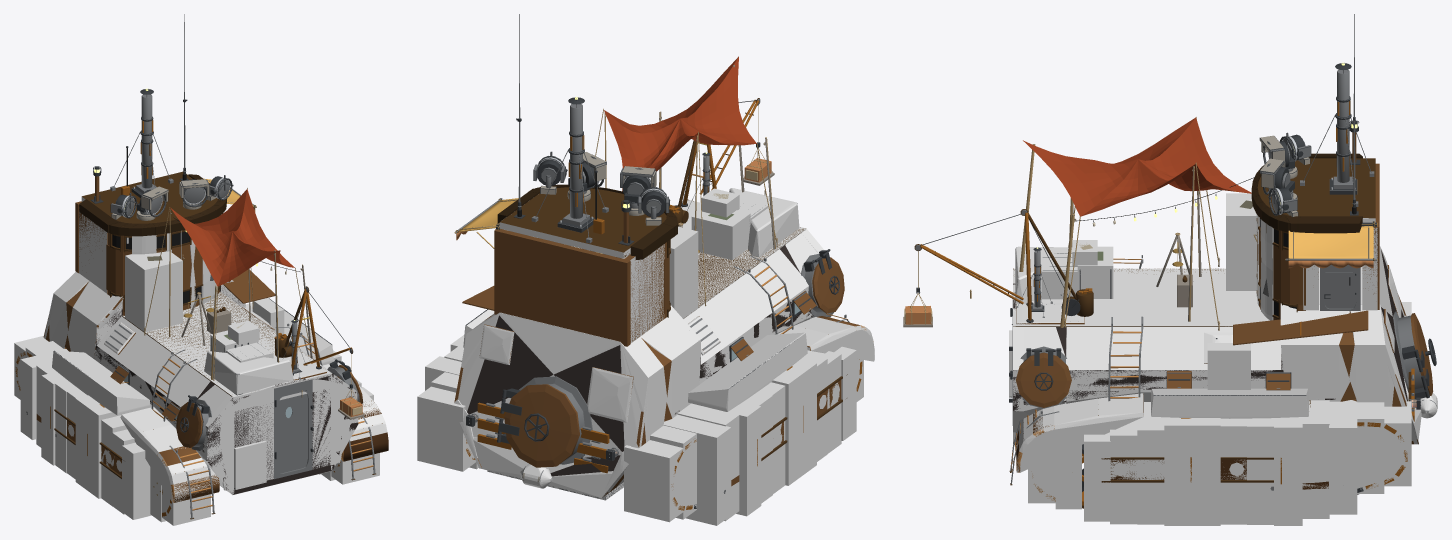
File: dune_barge_compact.fbx
The picture shows the model from 3 angles, left to right: view 1: azimuth 30°, elevation 25°; view 2: azimuth 150°, elevation 25°; view 3: azimuth 270°, elevation 25°; orthographic projection. The views are drawn at different scales.
Parts seen in each view (by area): view 1: S06_Canopy.001, COL_DuneBarge_0111, COL_DuneBarge_0026, COL_DuneBarge_0066, COL_DuneBarge_0065, COL_DuneBarge_0115, COL_DuneBarge_0038, Mesh_Door_Bulkhead_Leaf_NeckDoor.001, COL_DuneBarge_0014, Mesh_BridgeGlass.003, Cube.008, COL_DuneBarge_0069 (+59 smaller); view 2: Cube.010, S06_Canopy.001, Mesh_RearHull_Stern.001, Mesh_Hatch_Roof_Lid.001, Cube.008, COL_DuneBarge_0065, COL_DuneBarge_0080, COL_DuneBarge_0078, COL_DuneBarge_0096, COL_DuneBarge_0024, COL_DuneBarge_0038, COL_DuneBarge_0062 (+48 smaller); view 3: S06_Canopy.001, COL_DuneBarge_0026, COL_DuneBarge_0082, COL_DuneBarge_0081, COL_DuneBarge_0034, COL_DuneBarge_0010, Cube.008, COL_DuneBarge_0011, COL_DuneBarge_0094, COL_DuneBarge_0088, COL_DuneBarge_0092, COL_DuneBarge_0035 (+49 smaller).
Boxes of the visible parts, box(x1,y1,x2,y2) form: S06_Canopy.001: box(170, 189, 294, 286); COL_DuneBarge_0111: box(125, 251, 182, 332); COL_DuneBarge_0026: box(122, 291, 331, 398); COL_DuneBarge_0066: box(120, 407, 219, 501); COL_DuneBarge_0065: box(52, 350, 151, 415); COL_DuneBarge_0115: box(204, 351, 293, 394); COL_DuneBarge_0038: box(67, 281, 122, 358); Mesh_Door_Bulkhead_Leaf_NeckDoor.001: box(278, 394, 307, 472); COL_DuneBarge_0014: box(202, 394, 234, 494); Mesh_BridgeGlass.003: box(79, 174, 226, 236); Cube.008: box(82, 171, 217, 226); COL_DuneBarge_0069: box(122, 442, 151, 519); Cube.010: box(494, 229, 630, 346); S06_Canopy.001: box(604, 56, 756, 191); Mesh_RearHull_Stern.001: box(467, 315, 624, 476); Mesh_Hatch_Roof_Lid.001: box(498, 384, 579, 467); Cube.008: box(500, 187, 666, 258); COL_DuneBarge_0065: box(688, 332, 807, 411); COL_DuneBarge_0080: box(624, 440, 683, 522); COL_DuneBarge_0078: box(663, 414, 731, 525); COL_DuneBarge_0096: box(417, 386, 475, 471); COL_DuneBarge_0024: box(499, 312, 649, 376); COL_DuneBarge_0038: box(640, 305, 700, 418); COL_DuneBarge_0062: box(630, 244, 664, 343); S06_Canopy.001: box(1023, 117, 1251, 216); COL_DuneBarge_0026: box(1013, 268, 1269, 326); COL_DuneBarge_0082: box(1016, 393, 1143, 472); COL_DuneBarge_0081: box(1151, 388, 1308, 418); COL_DuneBarge_0034: box(1280, 304, 1350, 401); COL_DuneBarge_0010: box(1077, 327, 1141, 401); Cube.008: box(1257, 158, 1375, 218); COL_DuneBarge_0011: box(1142, 327, 1206, 401); COL_DuneBarge_0094: box(1329, 400, 1357, 514); COL_DuneBarge_0088: box(1164, 417, 1193, 525); COL_DuneBarge_0092: box(1274, 417, 1302, 525); COL_DuneBarge_0035: box(1349, 304, 1395, 406).
Size of the model in its own units: 953 by 1452 by 1508.
